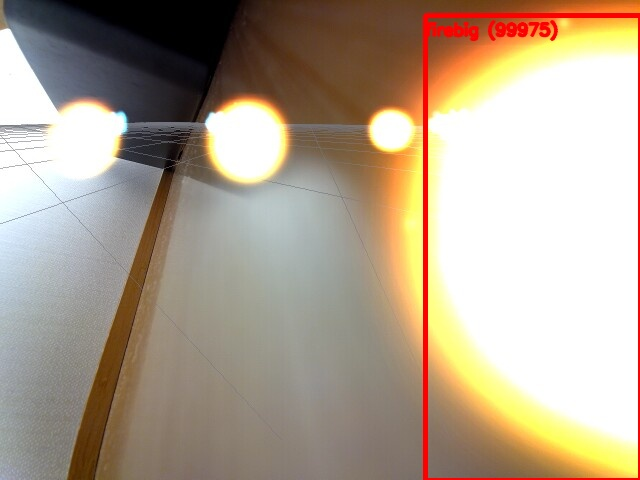firebig: (425, 15, 640, 480)
